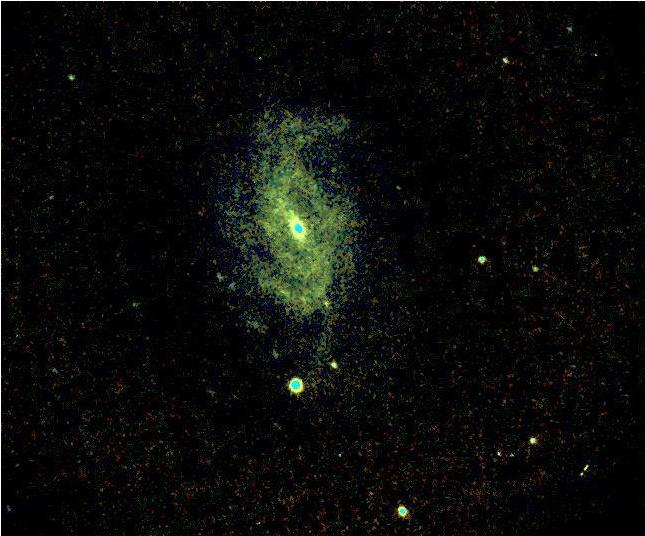star: (569, 460, 599, 490)
